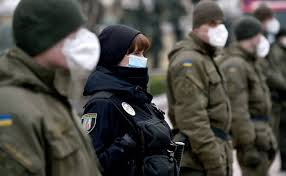masked: (11, 1, 104, 87), (96, 20, 155, 90), (187, 1, 230, 51), (233, 14, 270, 61), (258, 7, 283, 38)
